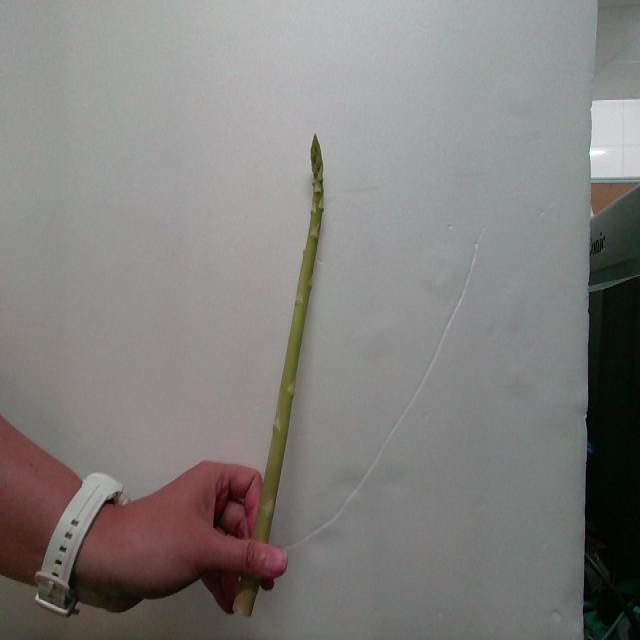aspargus: (258, 137, 326, 545)
